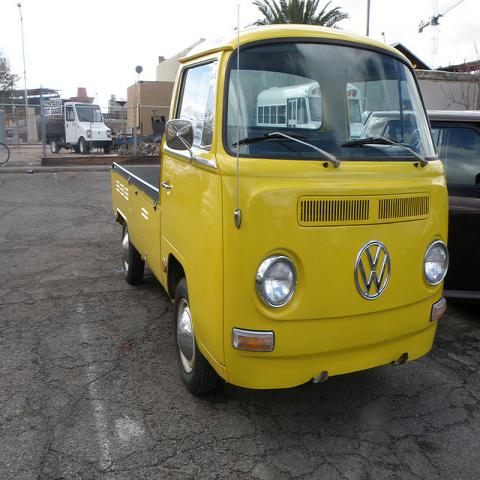bus: (256, 84, 364, 138)
car: (428, 110, 480, 298)
truck: (112, 33, 453, 396), (40, 106, 114, 155)
